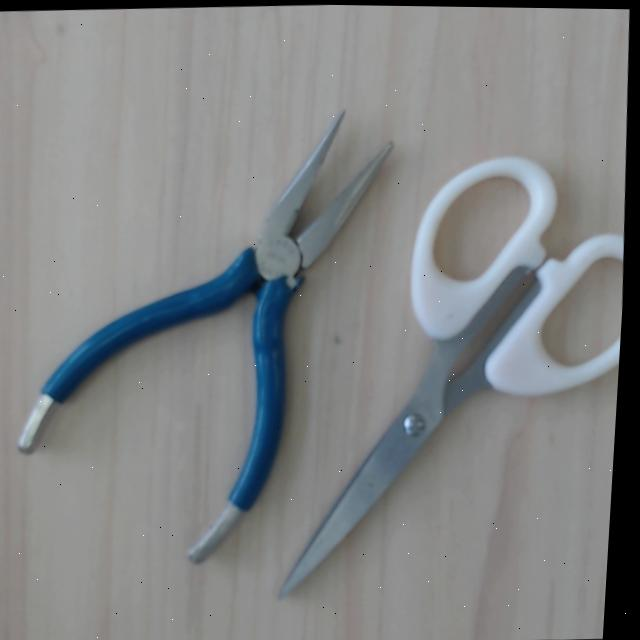Tang-Jepit-Biru: (6, 59, 463, 574)
